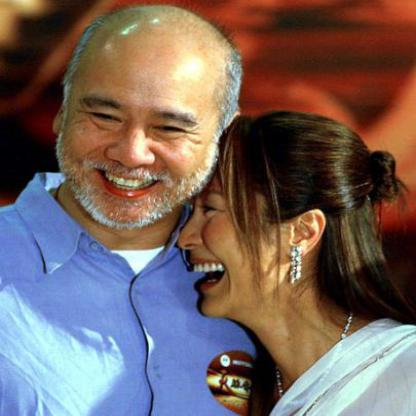face: (64, 11, 226, 234), (167, 125, 295, 325)
